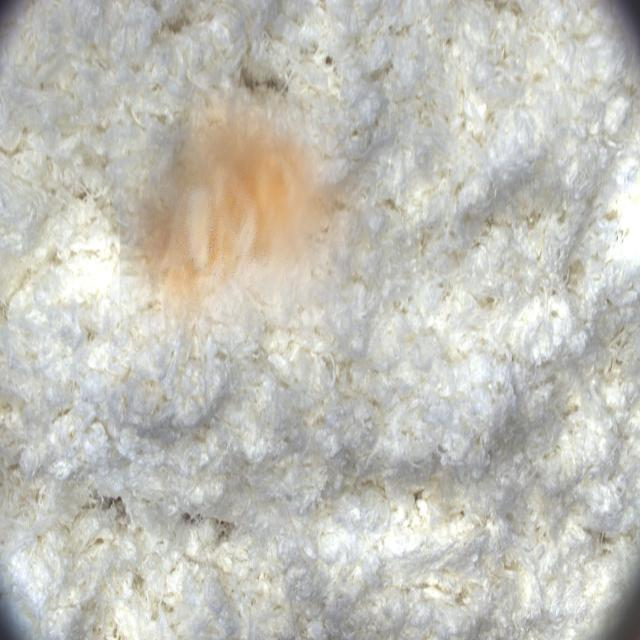dust: (120, 57, 381, 341)
